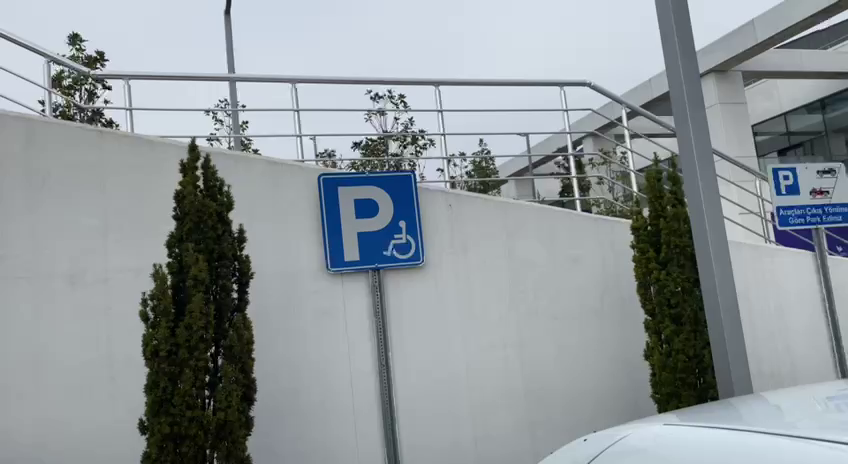parking: (315, 169, 428, 273), (771, 165, 801, 197)
